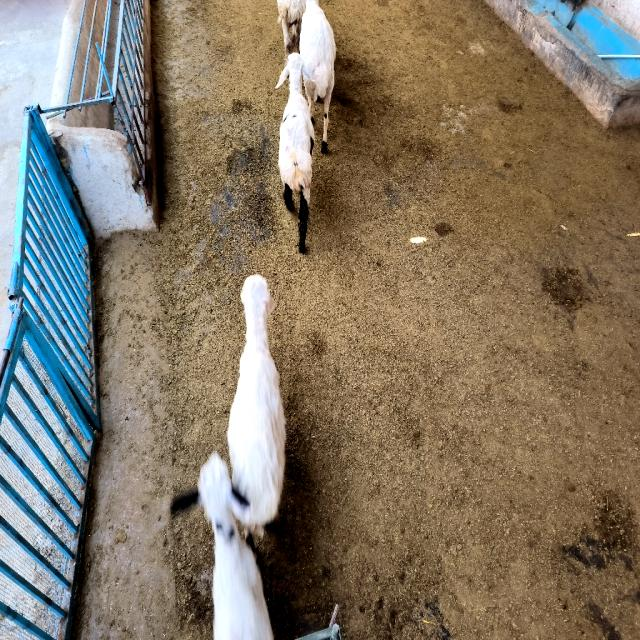sheep: (228, 275, 286, 537), (199, 452, 274, 640), (276, 53, 315, 252), (300, 0, 336, 151)
